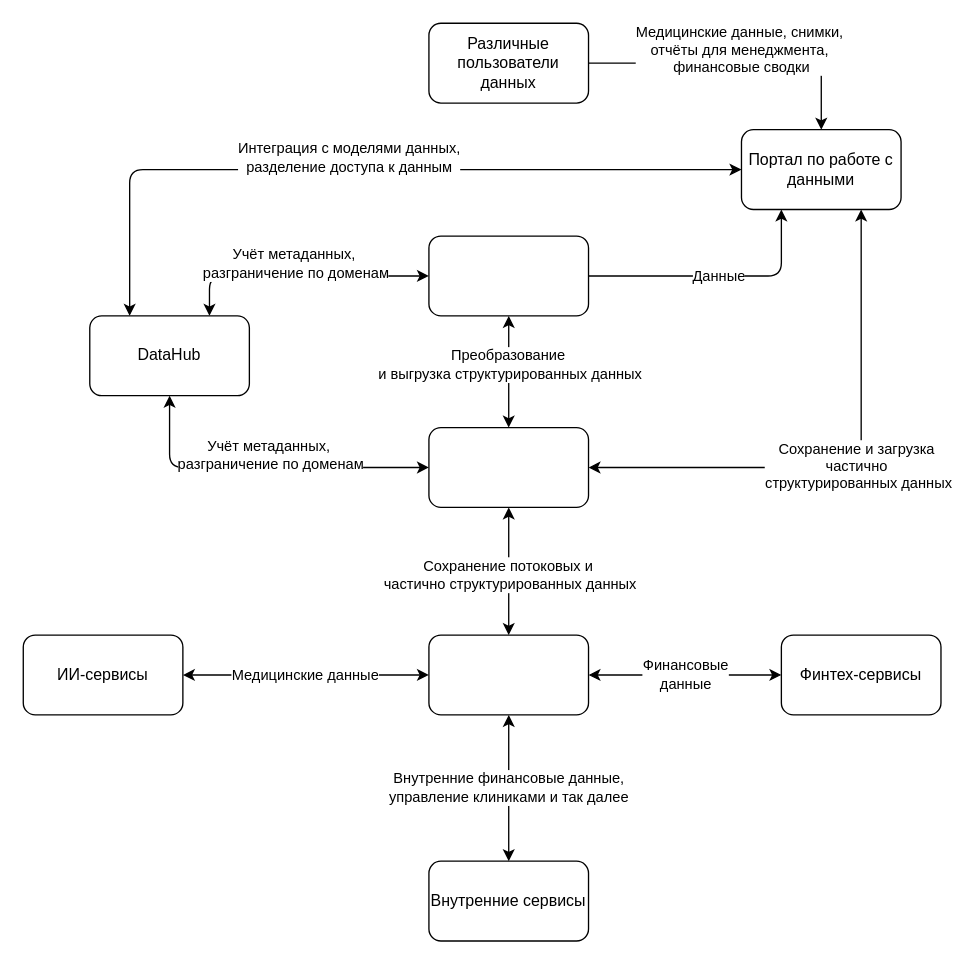
Image size: 975x964. Some labels were removed from this diagram. The shapes that lost their labels are listed below. From the top down, each one's centre as x and y in pixels, then its label:
[508,275]: DWH
[508,466]: DataLake
[508,674]: Брокер
